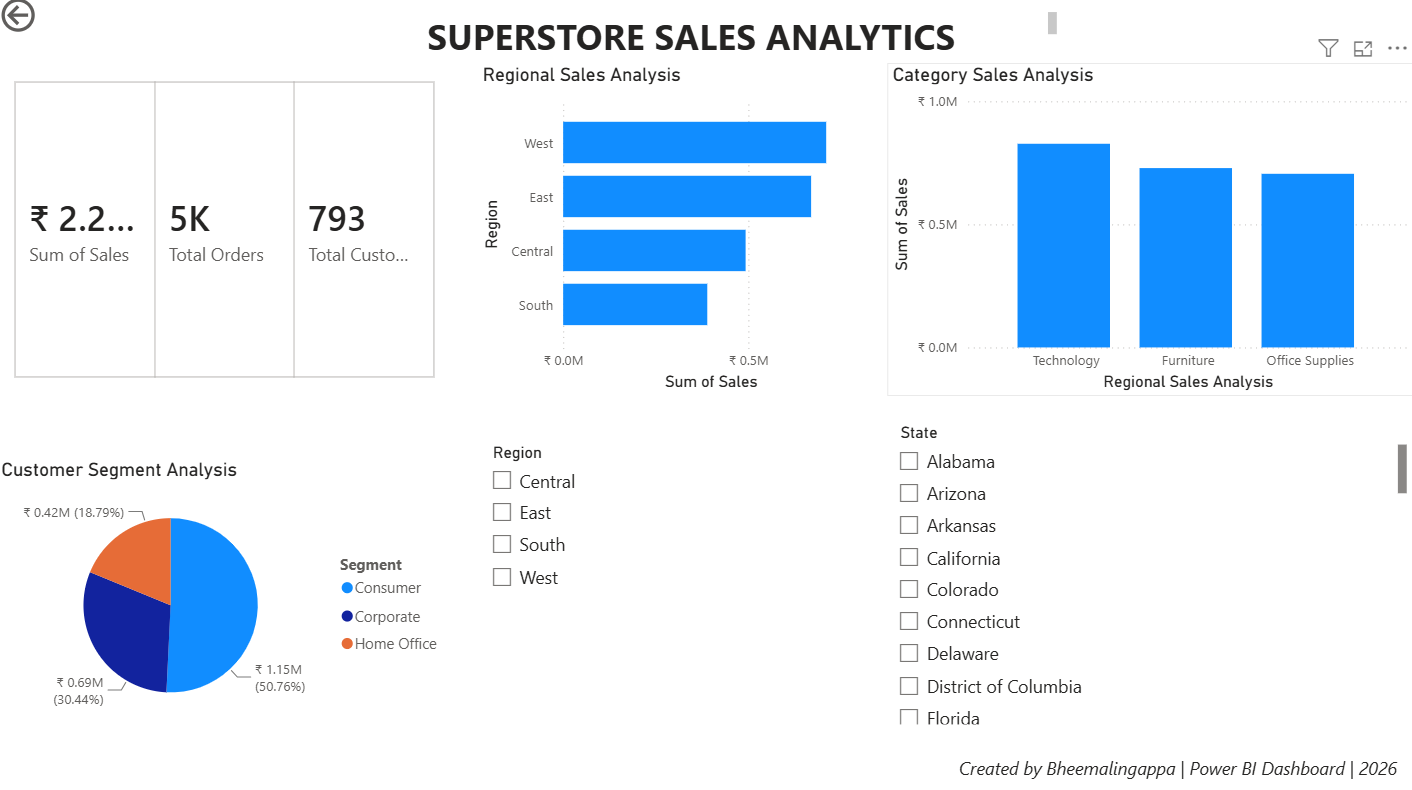

This screenshot's page, from the dashboard's own definition file:
{"tool":"powerbi","page":{"name":"Executive Dashboard","canvas":[1280,720],"ordinal":0},"visuals":[{"type":"clusteredBarChart","title":"Regional Sales Analysis","fields":{"Y":["Sum(train.Sales)"],"Category":["train.Region"]},"box":[435.3,63.1,369.4,300.9],"z":0},{"type":"clusteredColumnChart","title":"Category Sales Analysis","fields":{"Y":["Sum(train.Sales)"],"Category":["train.Category"]},"box":[804.7,63.1,475.6,300.9],"z":1000},{"type":"pieChart","title":"Customer Segment Analysis","fields":{"Category":["train.Segment"],"Y":["Sum(train.Sales)"]},"box":[0,420,412.9,245.7],"z":3000},{"type":"slicer","fields":{"Values":["train.Region"]},"box":[435.7,401.4,355.7,264.3],"z":4000},{"type":"slicer","fields":{"Values":["train.State"]},"box":[804.3,384.3,475.7,281.4],"z":5000},{"type":"textbox","box":[301.9,12.3,661.4,50.8],"z":6000},{"type":"textbox","box":[854.3,684.3,425.7,35.7],"z":7000},{"type":"actionButton","box":[0,0,100,40],"z":7002},{"type":"cardVisual","fields":{"Data":["Sum(train.Sales)","train.Total Orders","train.Total Customers"]},"box":[0,63,413,301],"z":7003}]}

Visuals, with their boxes on the page's 1280x720 design canvas (x1, y1, x2, y2). These are canvas units, not pixel positions in the 1412x790 screenshot, which may show the page scaled, cropped or inside an application window:
"Regional Sales Analysis" clusteredBarChart: 435, 63, 805, 364
"Category Sales Analysis" clusteredColumnChart: 805, 63, 1280, 364
"Customer Segment Analysis" pieChart: 0, 420, 413, 666
slicer - train.Region: 436, 401, 791, 666
slicer - train.State: 804, 384, 1280, 666
textbox: 302, 12, 963, 63
textbox: 854, 684, 1280, 720
actionButton: 0, 0, 100, 40
cardVisual - Sum(train.Sales) x train.Total Orders: 0, 63, 413, 364
